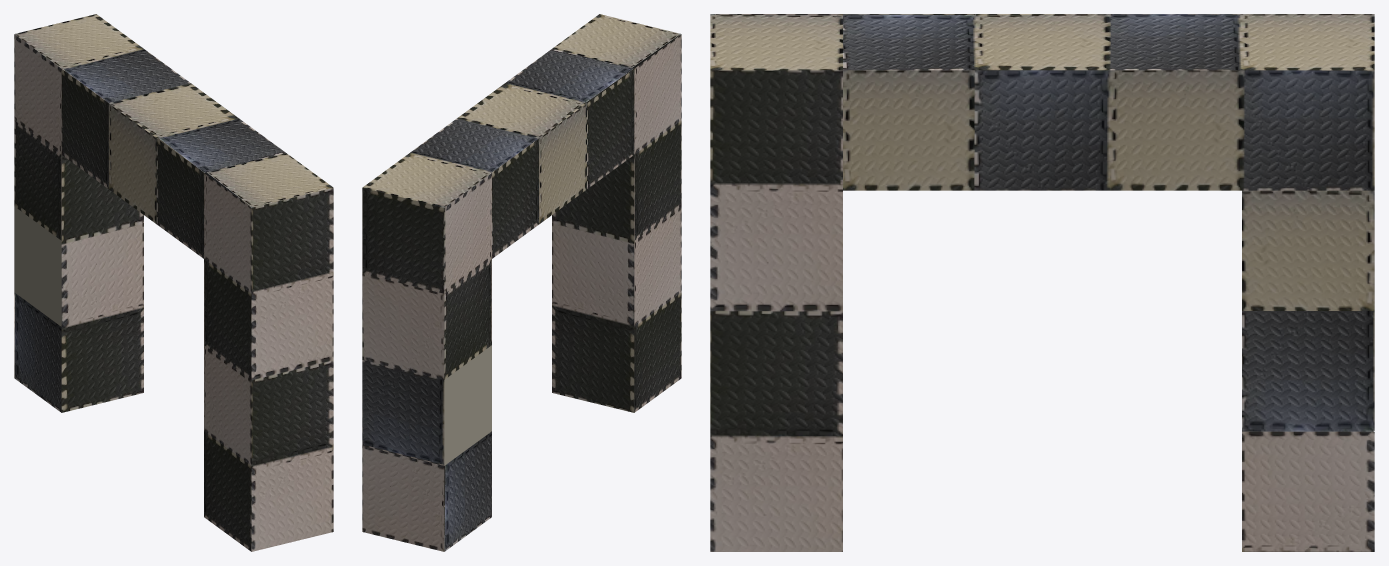
File: 3X3arch.dae
3 renders of one model, left to right at view 1: azimuth 30°, elevation 25°; view 2: azimuth 150°, elevation 25°; view 3: azimuth 270°, elevation 25°, orthographic. The views are drawn at different scales.
Parts seen in each view (by area): view 1: 立方体; view 2: 立方体; view 3: 立方体.
Boxes of the visible parts, box(x1,y1,x2,y2) form: 立方体: box(14, 14, 333, 551); 立方体: box(362, 14, 681, 551); 立方体: box(710, 14, 1374, 551).
Bounding box in the file's own units: 0.3 × 1.5 × 1.2.
Materials: 1 (1 with a texture image).
